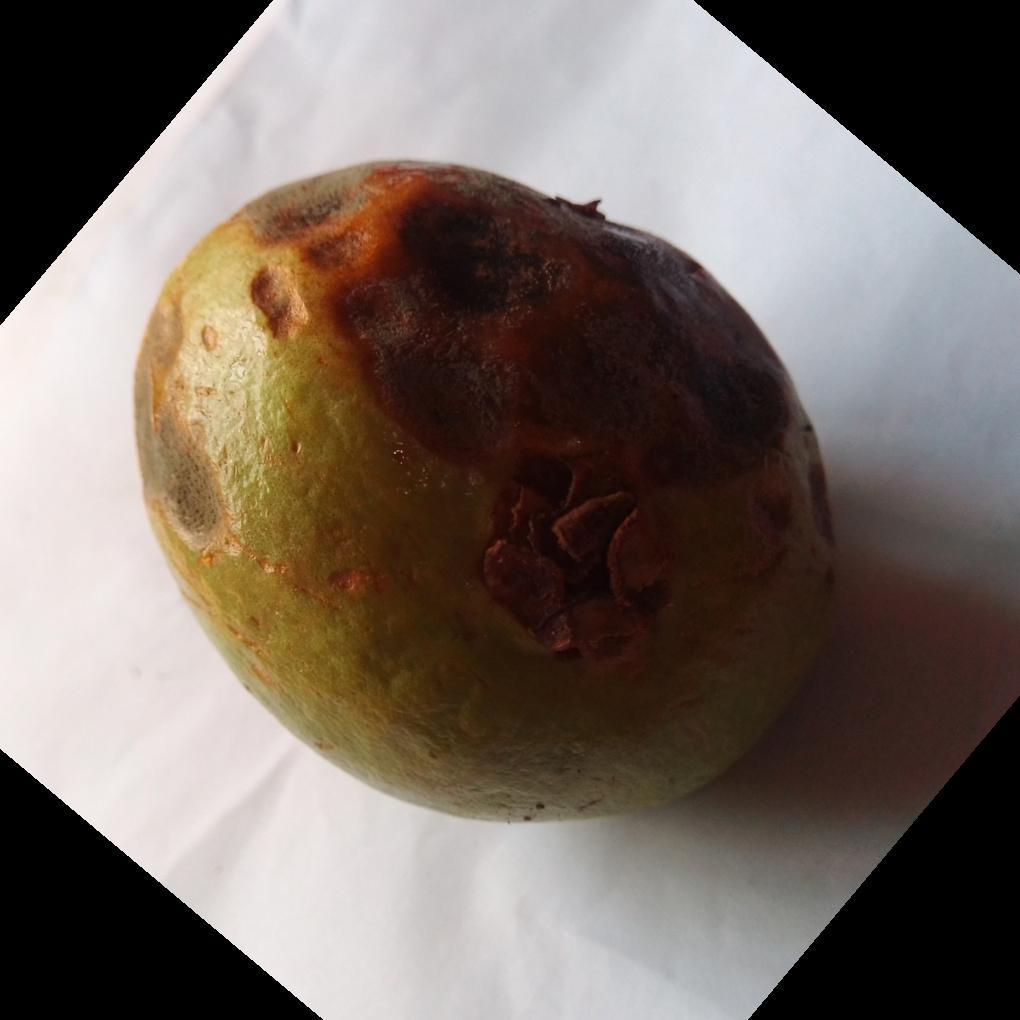FreshOrange: (133, 160, 840, 829)
